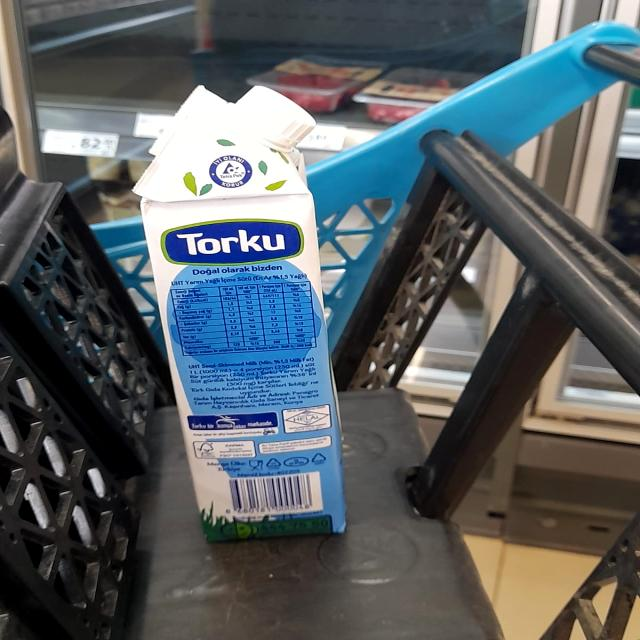milk: (140, 73, 360, 550)
